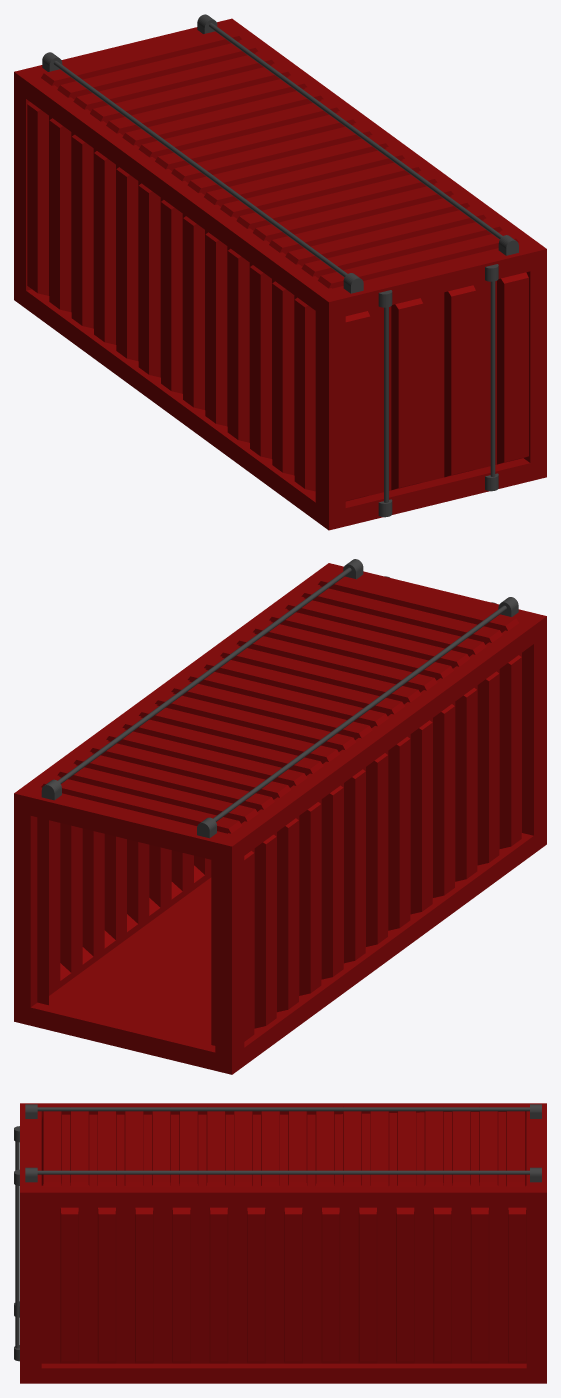
File: containeropen.obj
The picture shows the model from 3 angles, top to bottom: view 1: azimuth 30°, elevation 25°; view 2: azimuth 150°, elevation 25°; view 3: azimuth 270°, elevation 25°; orthographic projection. The views are drawn at different scales.
Visible parts, largest first — view 1: ContainerMerah.005; view 2: ContainerMerah.005; view 3: ContainerMerah.005.
Boxes of the visible parts, box(x1,y1,x2,y2) form: ContainerMerah.005: box(14, 14, 546, 530); ContainerMerah.005: box(14, 559, 546, 1074); ContainerMerah.005: box(14, 1103, 546, 1383).
Size of the model in its own units: 6.04 by 6.4 by 15.27.
